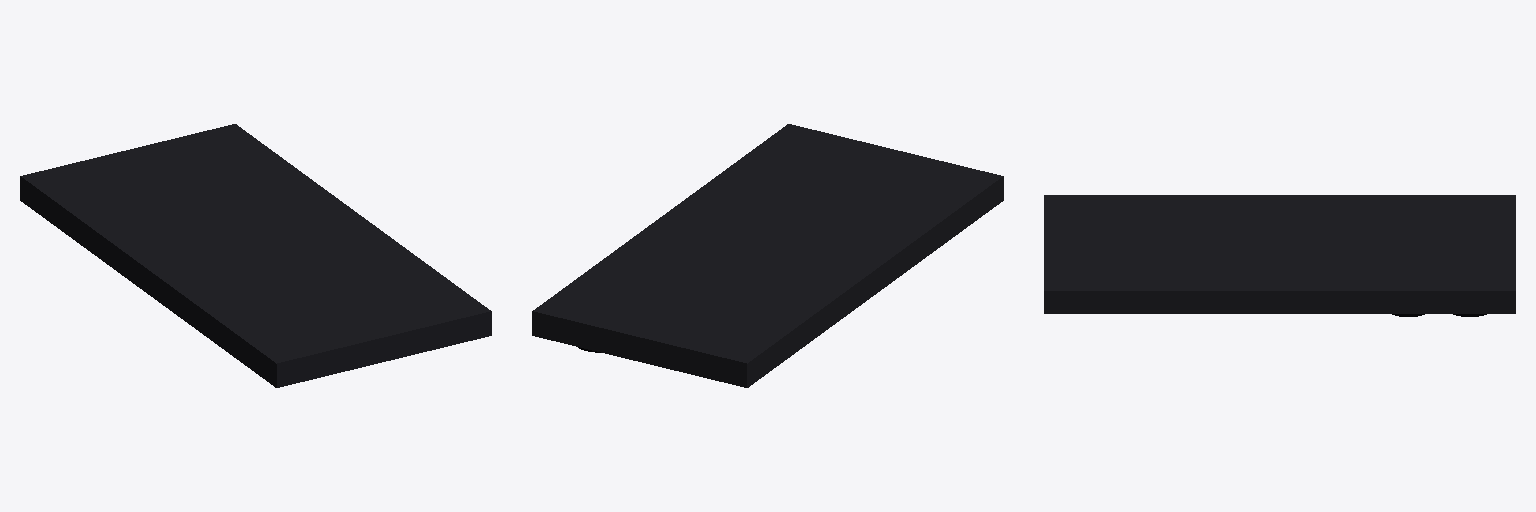
robot.urdf — iphone_14_pro:
<?xml version="1.0"?>
<!-- iPhone 14 Pro: generated by imuninn from Apple's dimensional drawings (iphone-frames dataset). Frames: device = display centre on the front glass (x right, y top, z out of the screen); cam_*_optical = OpenCV axes. Geometry and mass are approximate. -->
<robot name="iphone_14_pro">
  <material name="iphone_body">
    <color rgba="0.15 0.15 0.17 1" />
  </material>
  <material name="iphone_lens">
    <color rgba="0.05 0.05 0.06 1" />
  </material>
  <link name="device">
    <visual name="body">
      <origin xyz="-5e-06 5e-06 -0.003925" rpy="0 0 0" />
      <geometry>
        <box size="0.07145 0.14746 0.00785" />
      </geometry>
      <material name="iphone_body" />
    </visual>
    <collision name="body">
      <origin xyz="-5e-06 5e-06 -0.003925" rpy="0 0 0" />
      <geometry>
        <box size="0.07145 0.14746 0.00785" />
      </geometry>
    </collision>
    <visual name="lens_telephoto">
      <origin xyz="0.02144 0.059455 -0.00994" rpy="0 0 0" />
      <geometry>
        <cylinder radius="0.007805" length="0.00418" />
      </geometry>
      <material name="iphone_lens" />
    </visual>
    <visual name="lens_main">
      <origin xyz="0.02144 0.040215 -0.00994" rpy="0 0 0" />
      <geometry>
        <cylinder radius="0.007805" length="0.00418" />
      </geometry>
      <material name="iphone_lens" />
    </visual>
    <visual name="lens_ultra_wide">
      <origin xyz="0.0036 0.049835 -0.00994" rpy="0 0 0" />
      <geometry>
        <cylinder radius="0.007805" length="0.00418" />
      </geometry>
      <material name="iphone_lens" />
    </visual>
    <inertial>
      <origin xyz="-5e-06 5e-06 -0.003925" rpy="0 0 0" />
      <mass value="0.19" />
      <inertia ixx="0.000345263" ixy="0" ixz="0" iyy="8.18065e-05" iyz="0" izz="0.000425118" />
    </inertial>
  </link>
  <link name="magsafe" />
  <joint name="device_to_magsafe" type="fixed">
    <parent link="device" />
    <child link="magsafe" />
    <origin xyz="-1e-05 -0.001665 -0.00785" rpy="3.14159265 0 3.14159265" />
  </joint>
  <link name="cam_telephoto_optical" />
  <joint name="device_to_cam_telephoto_optical" type="fixed">
    <parent link="device" />
    <child link="cam_telephoto_optical" />
    <origin xyz="0.02144 0.059455 -0.01203" rpy="3.14159265 0 -1.57079633" />
  </joint>
  <link name="cam_main_optical" />
  <joint name="device_to_cam_main_optical" type="fixed">
    <parent link="device" />
    <child link="cam_main_optical" />
    <origin xyz="0.02144 0.040215 -0.01203" rpy="3.14159265 0 -1.57079633" />
  </joint>
  <link name="cam_ultra_wide_optical" />
  <joint name="device_to_cam_ultra_wide_optical" type="fixed">
    <parent link="device" />
    <child link="cam_ultra_wide_optical" />
    <origin xyz="0.0036 0.049835 -0.01203" rpy="3.14159265 0 -1.57079633" />
  </joint>
  <link name="cam_front_optical" />
  <joint name="device_to_cam_front_optical" type="fixed">
    <parent link="device" />
    <child link="cam_front_optical" />
    <origin xyz="0.00731 0.065635 0" rpy="0 0 1.57079633" />
  </joint>
  <link name="imu" />
  <joint name="device_to_imu" type="fixed">
    <parent link="device" />
    <child link="imu" />
    <origin xyz="0 0 0" rpy="0 0 0" />
  </joint>
</robot>

--- What the picture shows (computed from the rendered views, not written in the file) ---
3 views of the same robot in one strip: view 1: azimuth 30°, elevation 25°; view 2: azimuth 150°, elevation 25°; view 3: azimuth 270°, elevation 25° (orthographic).
Robot: iphone_14_pro — 7 links, 6 joints (6 fixed); root link device; default pose: every joint at zero.
Visible links, largest first — view 1: device; view 2: device; view 3: device.
Link boxes in pixels (x1,y1,x2,y2): device: [20, 124, 491, 387]; device: [532, 124, 1003, 387]; device: [1044, 195, 1515, 316].
Size in the robot's own frame: 0.0715 by 0.1475 by 0.012 metres.
Geometry: primitives only (box / cylinder / sphere), no mesh files.
